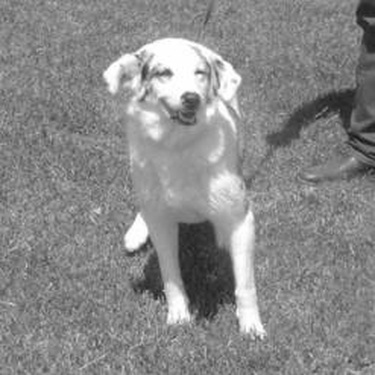dog: (87, 27, 279, 345)
